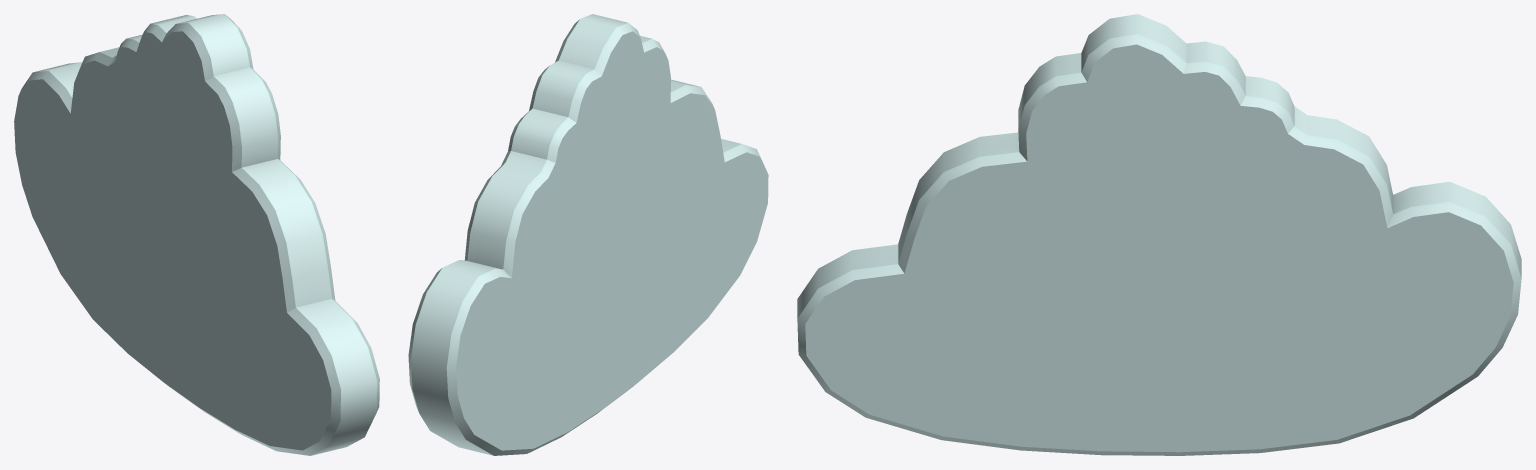
File: platcloud03.fbx
3 renders of one model, left to right at view 1: azimuth 30°, elevation 25°; view 2: azimuth 150°, elevation 25°; view 3: azimuth 270°, elevation 25°, orthographic. The views are drawn at different scales.
Parts seen in each view (by area): view 1: platcloud03; view 2: platcloud03; view 3: platcloud03.
Boxes of the visible parts, <box> form: platcloud03: <box>14,14,379,455</box>; platcloud03: <box>408,14,768,455</box>; platcloud03: <box>797,14,1521,455</box>.
Size of the model in its own units: 39.06 by 291 by 453.
